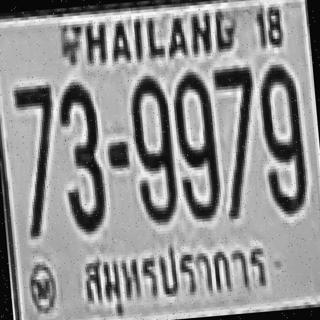N00: (169, 69, 220, 219)
N03: (54, 79, 106, 232)
N07: (12, 82, 61, 231), (212, 65, 261, 212), (212, 64, 260, 194), (11, 81, 59, 205), (212, 64, 257, 168), (11, 82, 56, 177), (212, 64, 256, 156)
N09: (169, 69, 220, 219), (256, 60, 306, 212), (128, 71, 177, 221)
P57: (72, 230, 274, 320)
